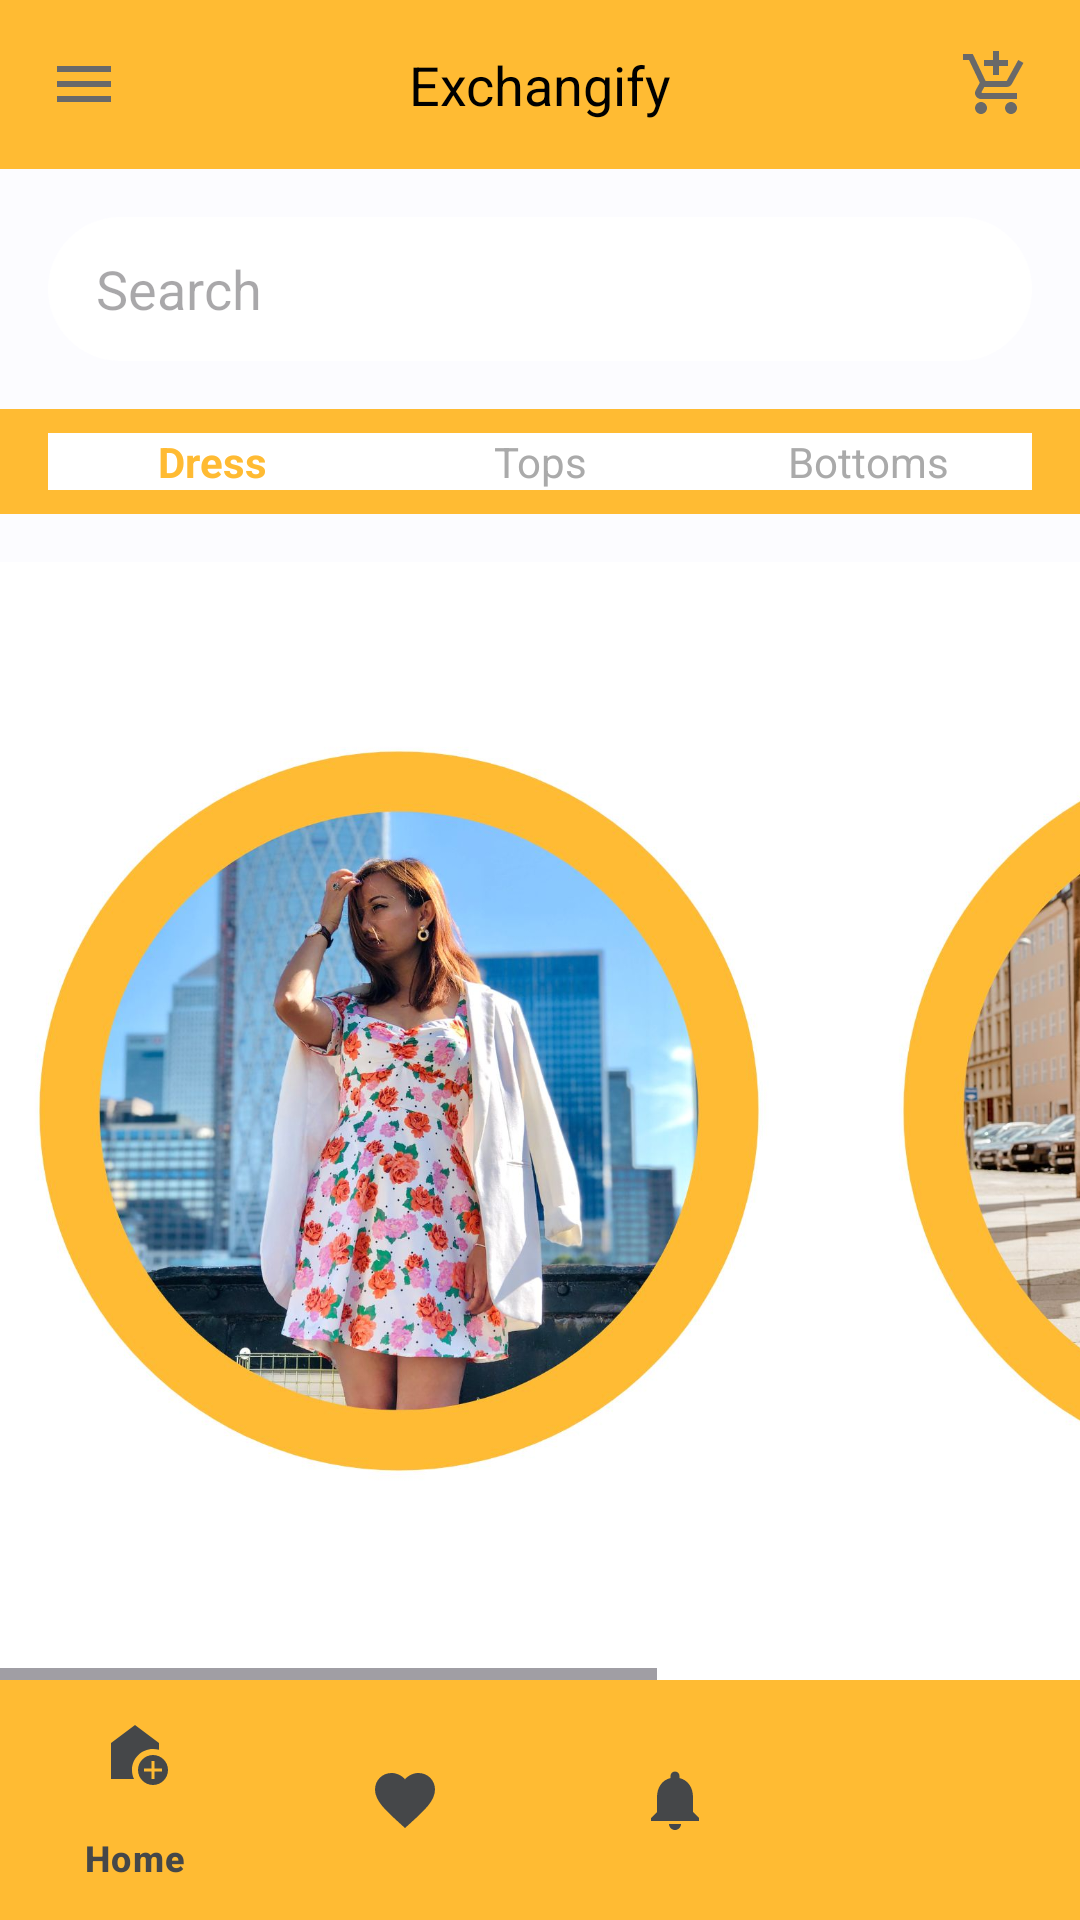

Screen size 1080 × 1920. Icon name, then its box in pixels as (x1, y1, x2, y2):
Cart: (963, 51, 1023, 114)
Menu: (57, 66, 111, 102)
